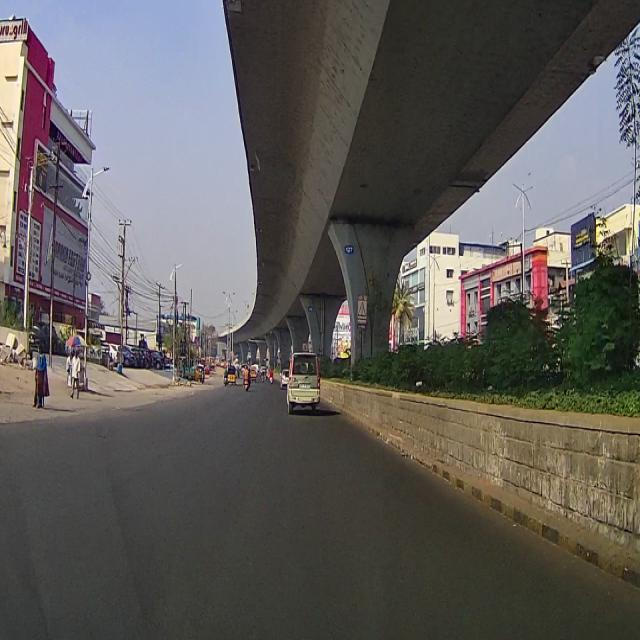gap-in-median: (358, 296, 367, 323)
